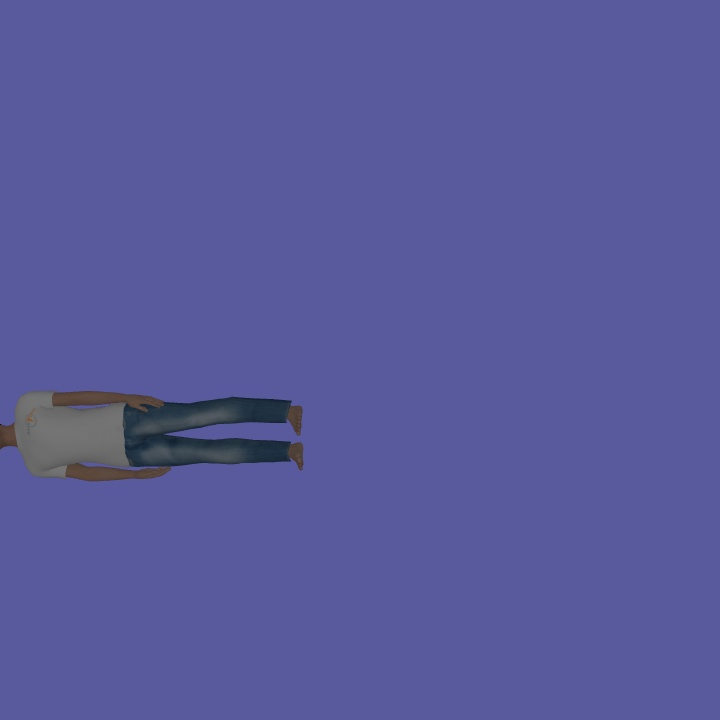victim: (1, 383, 306, 482)
